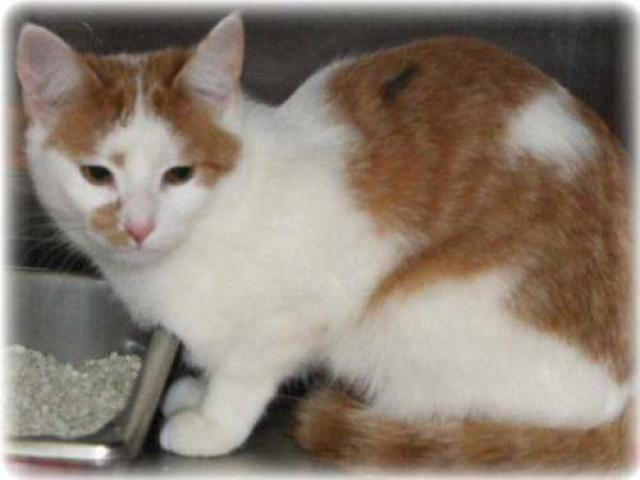cat: (18, 5, 638, 479)
